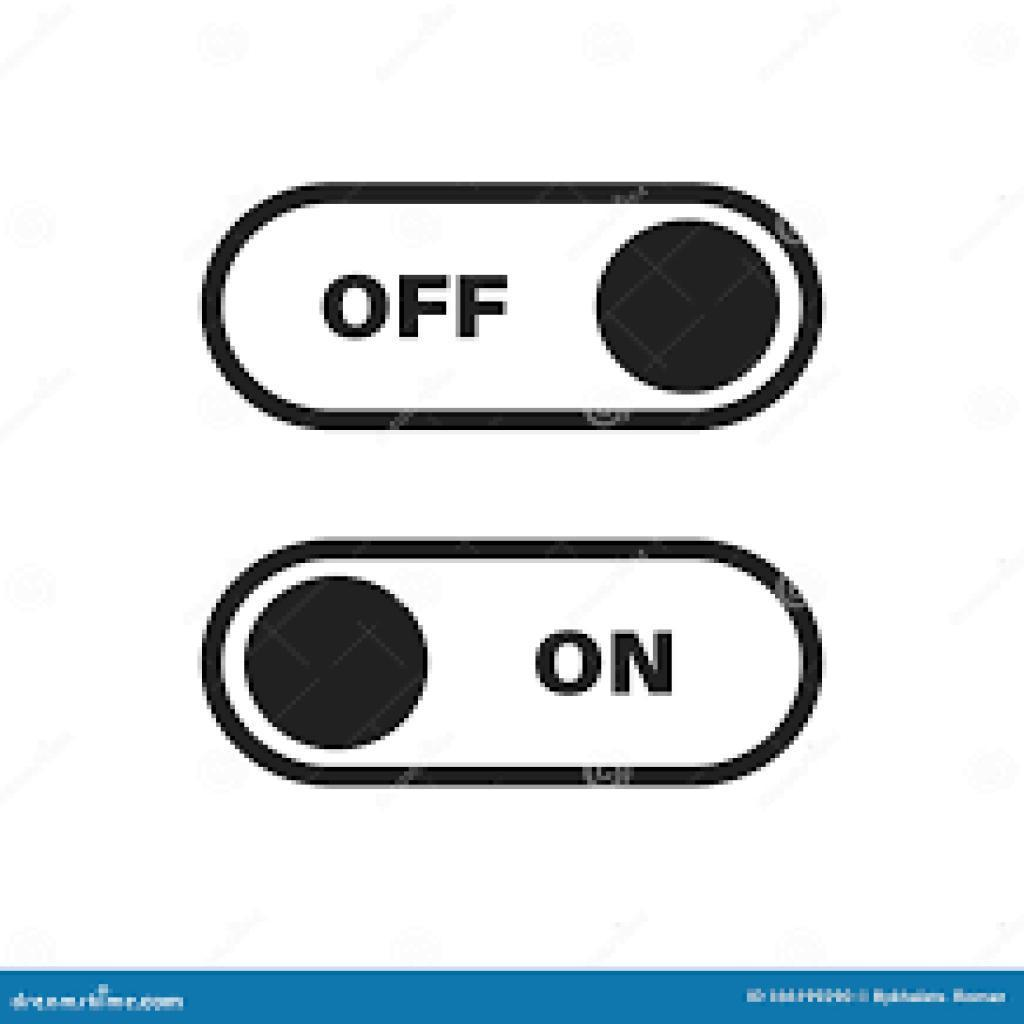switch: (204, 539, 826, 790), (203, 184, 822, 431)
